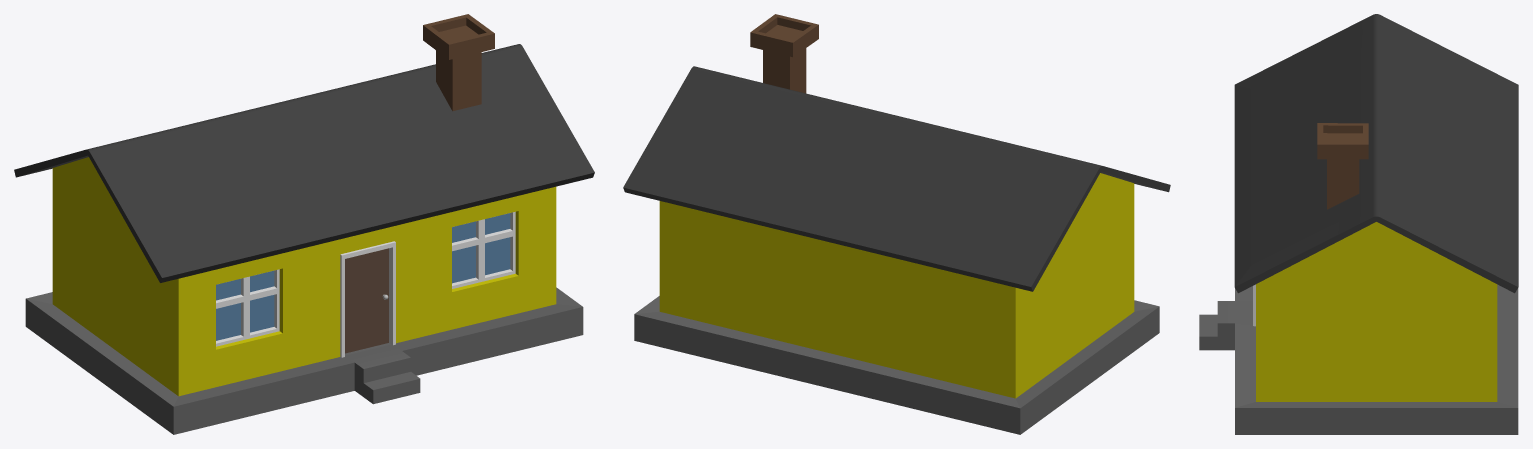
The model's file is House.fbx.
3 views of the same model, side by side, from view 1: azimuth 30°, elevation 25°; view 2: azimuth 150°, elevation 25°; view 3: azimuth 270°, elevation 25° (orthographic). The views are drawn at different scales.
Parts seen in each view (by area): view 1: pCube2; view 2: pCube2; view 3: pCube2.
Boxes of the visible parts, x1=… form: pCube2: x1=14, y1=14, x2=594, y2=434; pCube2: x1=623, y1=14, x2=1170, y2=434; pCube2: x1=1199, y1=14, x2=1518, y2=434.
Size of the model in its own units: 756 by 469 by 503.
